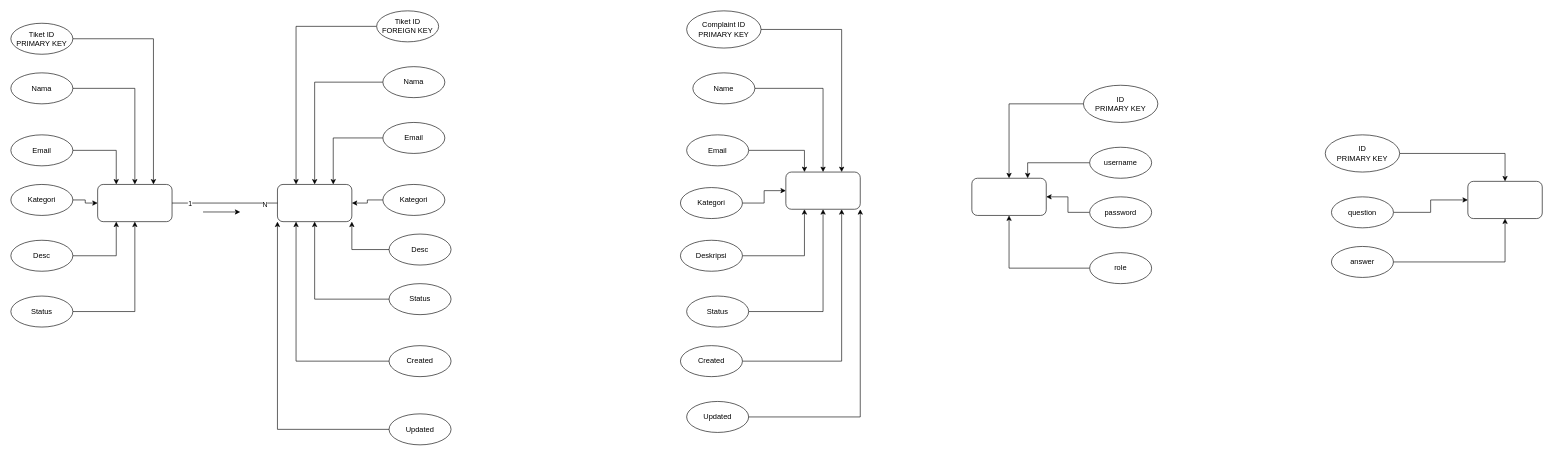
Some shapes in this 1553 by 456 pixel diagram are drawn without their labels. Each missing label, with the centre of its shape:
Complaint: the point at 822,190
faqs (Berdiri sendiri): the point at 1504,200
REPORT: the point at 314,203
TICKET: the point at 134,203
users (Berdiri sendiri): the point at 1008,196
